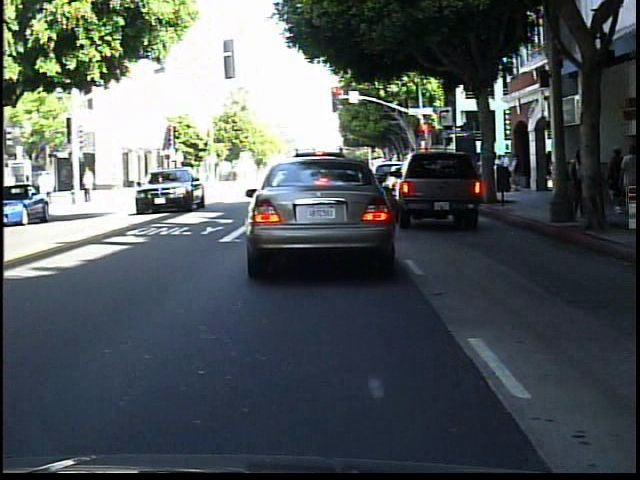person: (566, 144, 591, 224), (614, 141, 639, 220), (604, 146, 627, 214), (81, 163, 102, 206)
